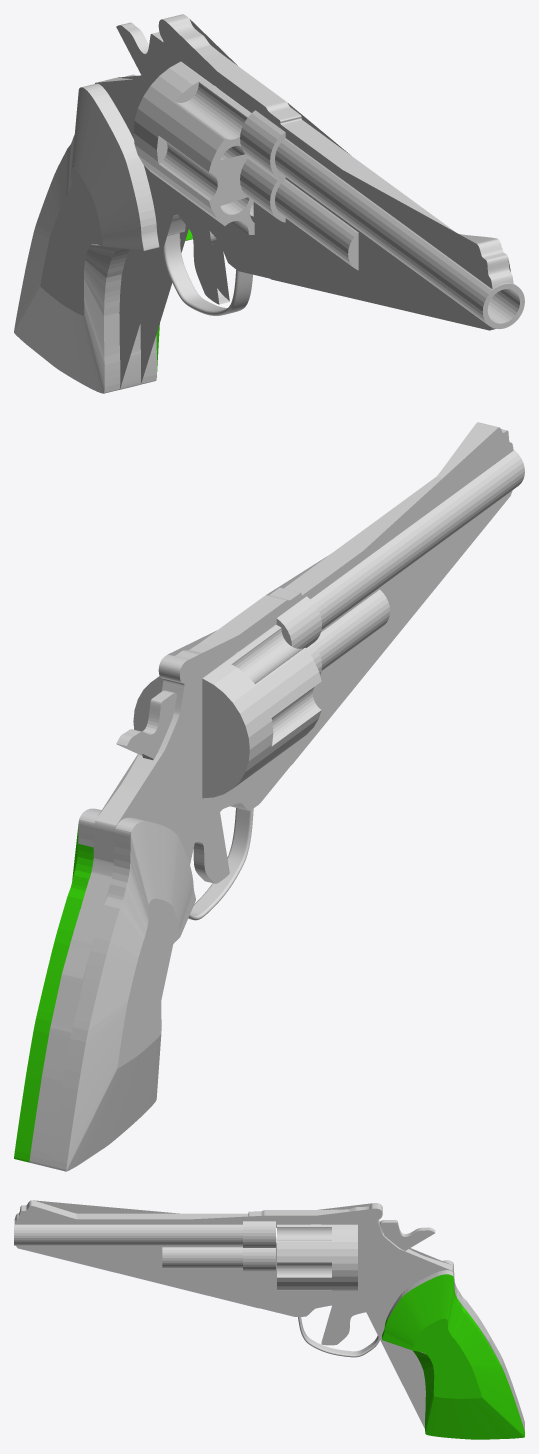
The model's file is RevolverV1.fbx.
3 renders of one model, top to bottom at view 1: azimuth 30°, elevation 25°; view 2: azimuth 150°, elevation 25°; view 3: azimuth 270°, elevation 25°, orthographic. The views are drawn at different scales.
Parts seen in each view (by area): view 1: Body; view 2: Body; view 3: Body.
Part boxes in pixels (x1,y1,x2,y2): Body: (14,14,524,393); Body: (14,422,524,1171); Body: (14,1200,524,1439).
Size of the model in its own units: 551 by 1888 by 3805.
